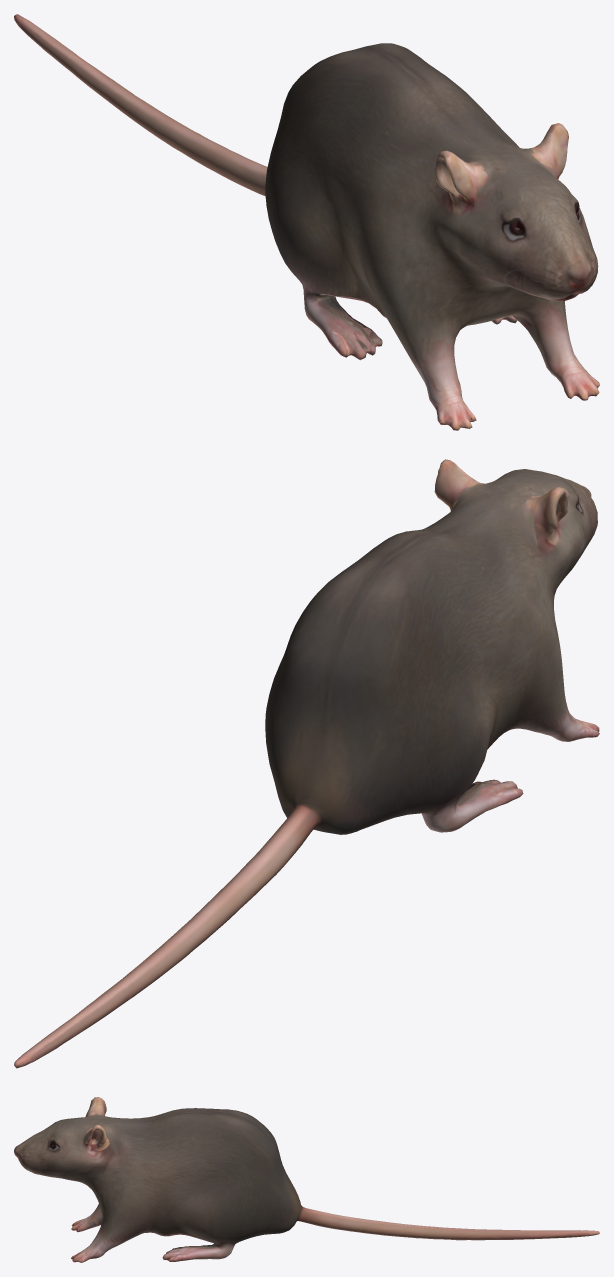
The model's file is 1760483510514_ratoEpiderme.glb.
3 renders of one model, top to bottom at view 1: azimuth 30°, elevation 25°; view 2: azimuth 150°, elevation 25°; view 3: azimuth 270°, elevation 25°, orthographic. The views are drawn at different scales.
Visible parts, largest first — view 1: Mesh1.0; view 2: Mesh1.0; view 3: Mesh1.0.
Boxes of the visible parts, x1=… form: Mesh1.0: x1=14, y1=14, x2=599, y2=430; Mesh1.0: x1=14, y1=459, x2=599, y2=1068; Mesh1.0: x1=14, y1=1097, x2=599, y2=1262.
Bounding box in the file's own units: 0.3685 × 0.4823 × 1.91.
Materials: 1 (1 with a texture image).
